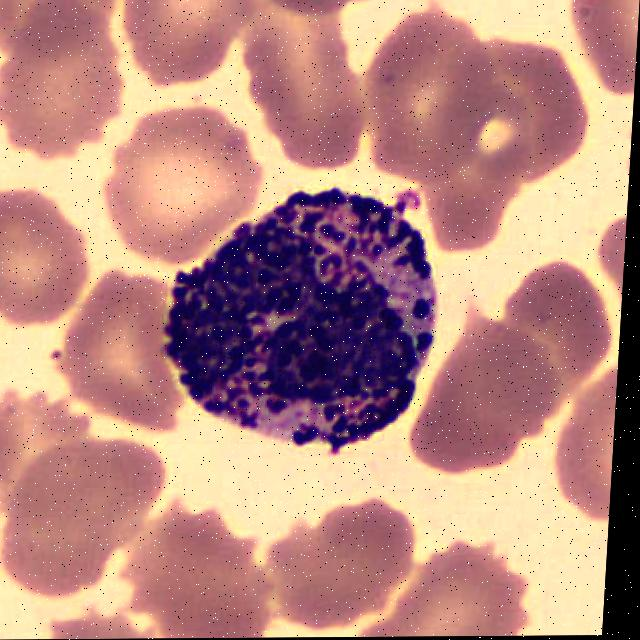basophil: (158, 191, 456, 457)
rbc: (400, 299, 564, 481), (0, 437, 185, 597), (98, 106, 271, 271), (47, 260, 197, 422), (239, 0, 378, 174), (114, 505, 286, 639), (419, 80, 541, 260), (0, 6, 135, 165), (356, 22, 491, 176), (475, 34, 597, 203), (496, 256, 616, 411), (340, 543, 536, 637), (273, 506, 418, 633), (123, 0, 260, 100), (0, 382, 90, 524), (547, 373, 617, 551), (0, 190, 90, 326), (561, 0, 640, 101), (0, 0, 119, 60), (40, 612, 163, 639), (593, 200, 628, 294), (255, 0, 385, 22)
